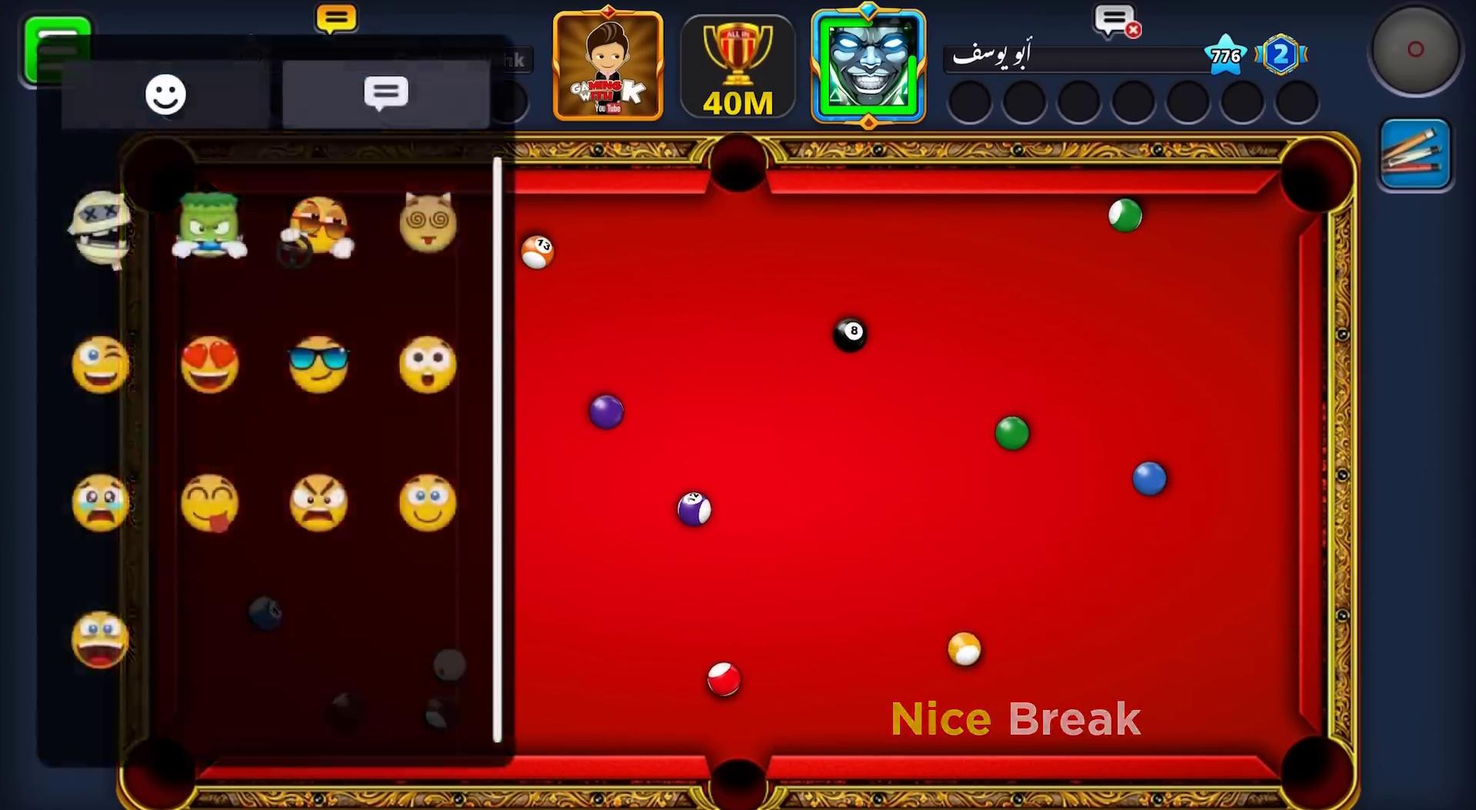Ball: (938, 623, 993, 678), (671, 476, 719, 538), (409, 687, 464, 741), (235, 592, 296, 636), (703, 651, 748, 708), (826, 310, 874, 357), (319, 678, 363, 722), (587, 391, 630, 436), (1106, 196, 1147, 241), (993, 413, 1034, 456), (1128, 458, 1169, 500), (519, 231, 558, 275)
Hole: (1270, 730, 1359, 810), (119, 738, 203, 810), (1280, 141, 1355, 218), (697, 747, 782, 810), (705, 133, 771, 198)
Spin: (1365, 3, 1471, 102)
White: (427, 643, 472, 686)
